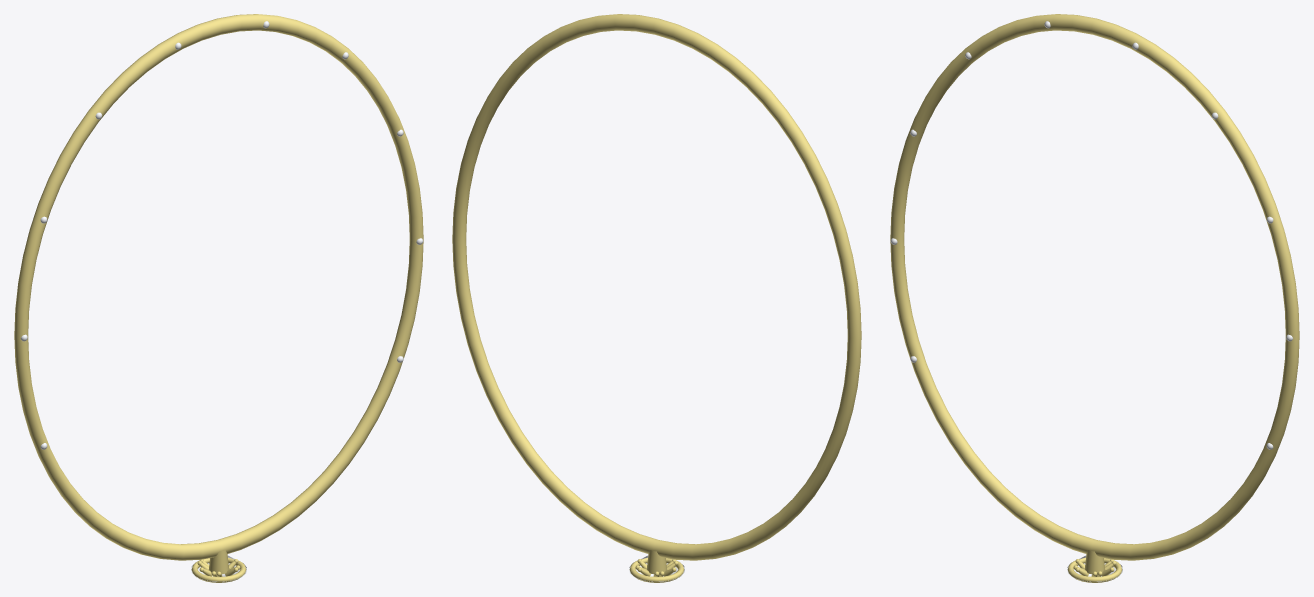
The model's file is necklace.glb.
3 views of the same model, side by side, from view 1: azimuth 30°, elevation 25°; view 2: azimuth 150°, elevation 25°; view 3: azimuth 330°, elevation 25° (orthographic).
Visible parts, largest first — view 1: Band, Setting_BEZEL; view 2: Band, Setting_BEZEL; view 3: Band, Setting_BEZEL.
Boxes of the visible parts, bbox=[...] form: Band: bbox=[14, 14, 423, 560]; Setting_BEZEL: bbox=[191, 557, 246, 582]; Band: bbox=[452, 14, 861, 560]; Setting_BEZEL: bbox=[629, 557, 684, 582]; Band: bbox=[890, 14, 1299, 560]; Setting_BEZEL: bbox=[1067, 557, 1122, 582].
Size of the model in its own units: 2.16 by 2.85 by 0.26.
